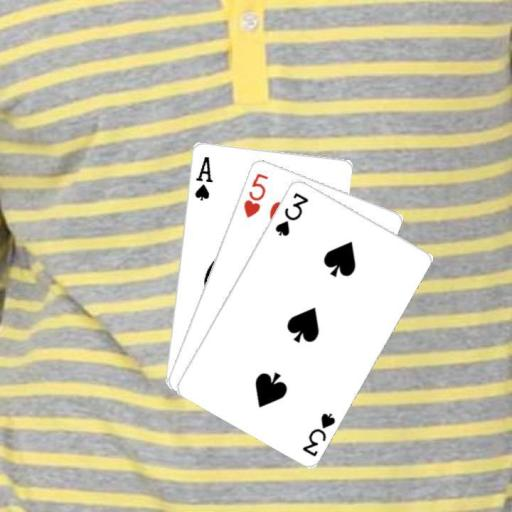3S: (272, 189, 310, 238), (299, 409, 337, 458)
5H: (240, 169, 270, 219)
AS: (191, 152, 214, 201)
